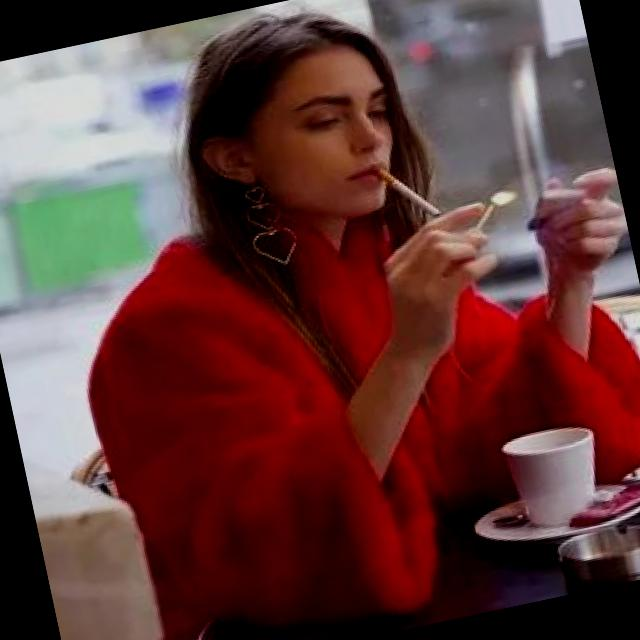cigarette: (367, 150, 450, 236)
